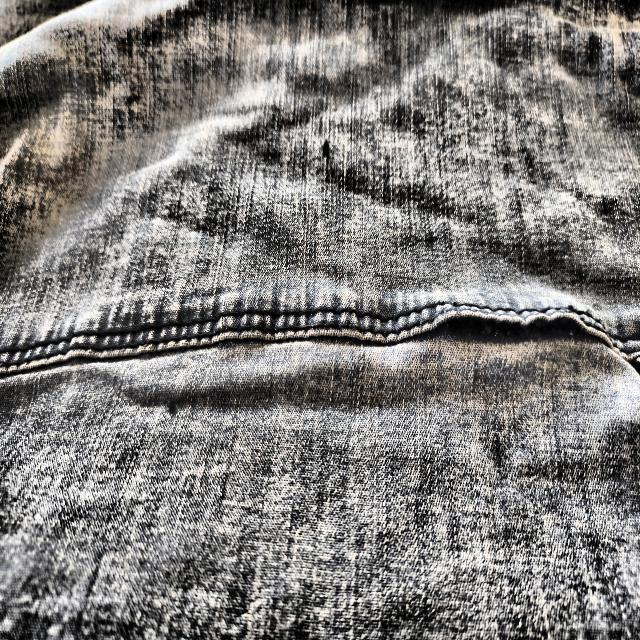gray stitch: (398, 294, 619, 354)
